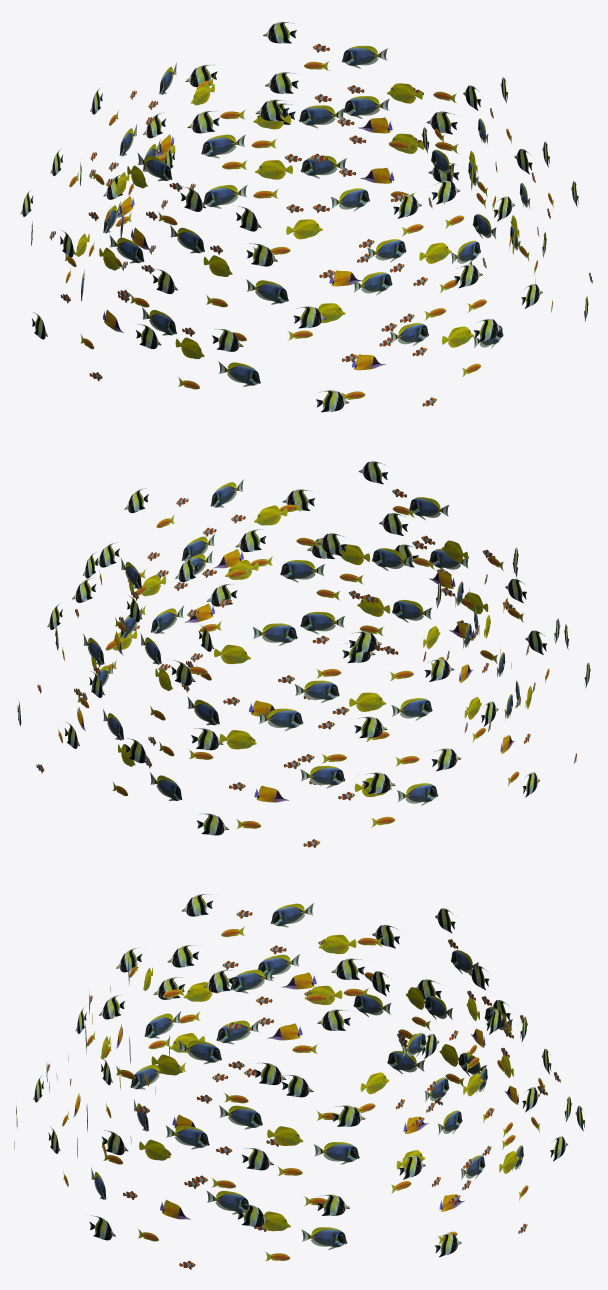
Rendered from seafish.glb.
3 renders of one model, top to bottom at view 1: azimuth 30°, elevation 25°; view 2: azimuth 150°, elevation 25°; view 3: azimuth 270°, elevation 25°, orthographic.
Parts seen in each view (by area): view 1: SeaFish; view 2: SeaFish; view 3: SeaFish.
Part boxes in pixels (bbox=[...]): SeaFish: bbox=[20, 21, 592, 412]; SeaFish: bbox=[17, 461, 590, 847]; SeaFish: bbox=[14, 894, 584, 1269].
Bounding box in the file's own units: 9.1 × 3.51 × 9.13.
1 material, 1 textured.
